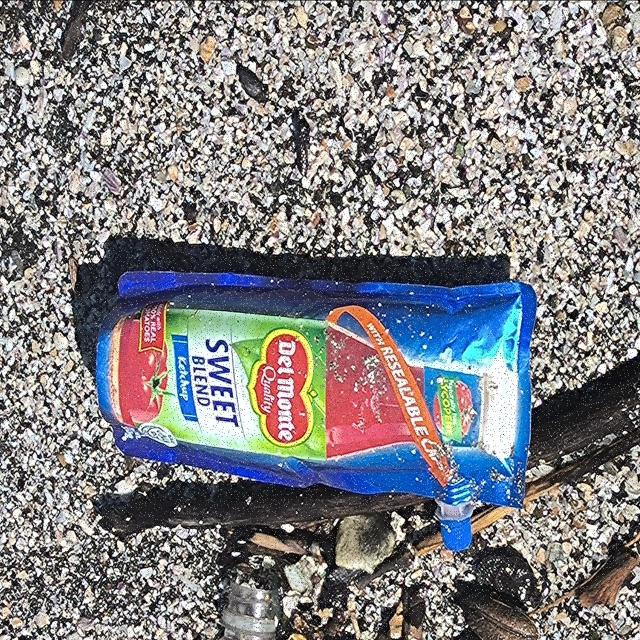plastic_waste: (97, 264, 538, 559)
